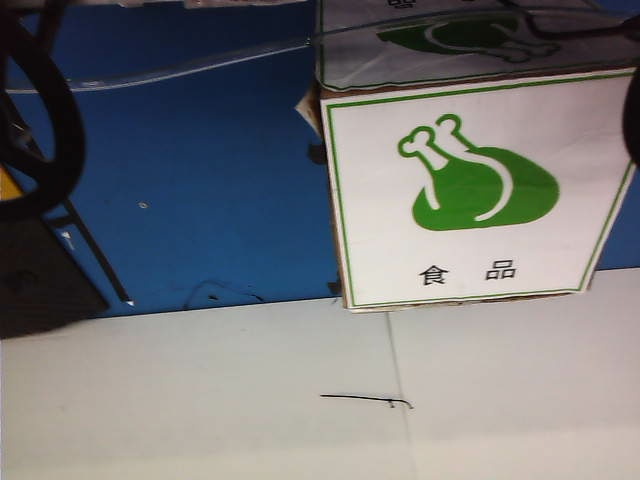Cube_food: (388, 106, 562, 288)
